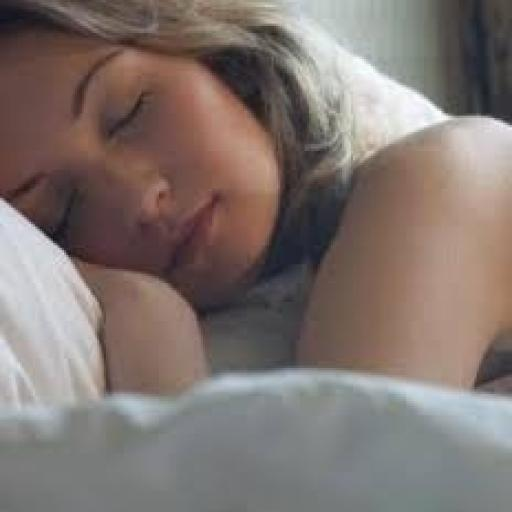sleeping: (0, 0, 510, 408)
